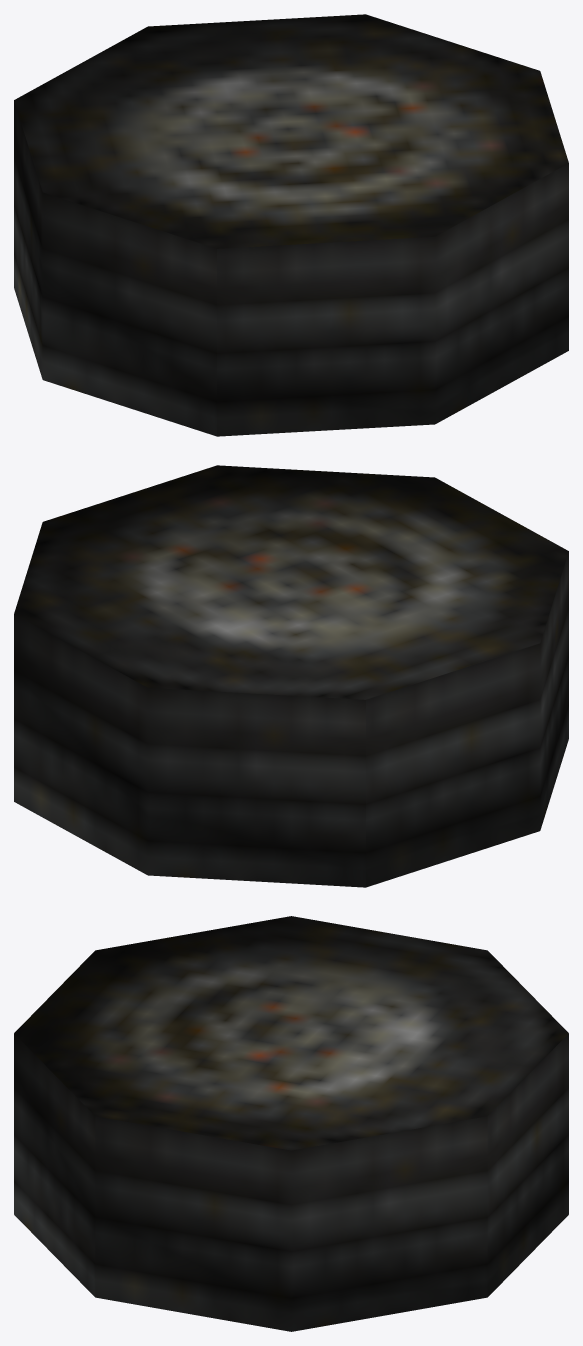
File: wheel1.fbx
3 renders of one model, top to bottom at view 1: azimuth 30°, elevation 25°; view 2: azimuth 150°, elevation 25°; view 3: azimuth 270°, elevation 25°, orthographic. The views are drawn at different scales.
Visible parts, largest first — view 1: wheel1; view 2: wheel1; view 3: wheel1.
Boxes of the visible parts, x1,y1,x2,y2 form: wheel1: (14,14,568,436); wheel1: (14,465,568,887); wheel1: (14,916,568,1331).
Size of the model in its own units: 91.58 by 91.58 by 33.01.
1 material, 1 textured.
